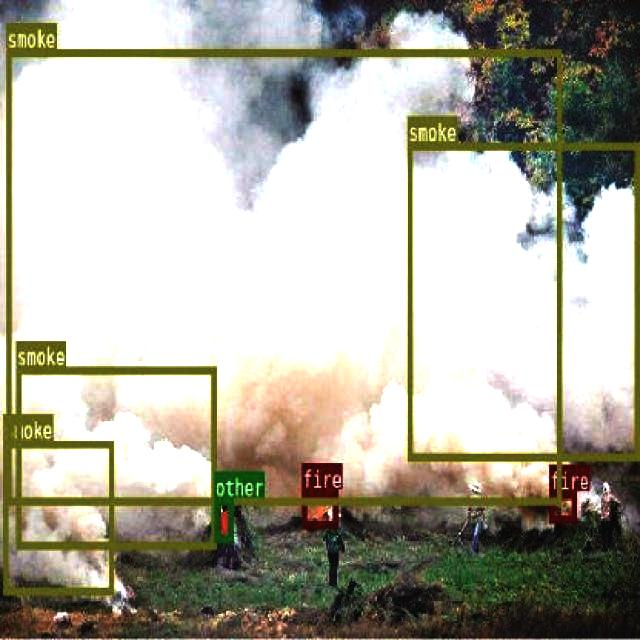fire: (301, 488, 337, 527), (550, 490, 576, 521)
smoke: (5, 48, 561, 504), (407, 142, 638, 458), (14, 366, 214, 546), (2, 440, 112, 594)
